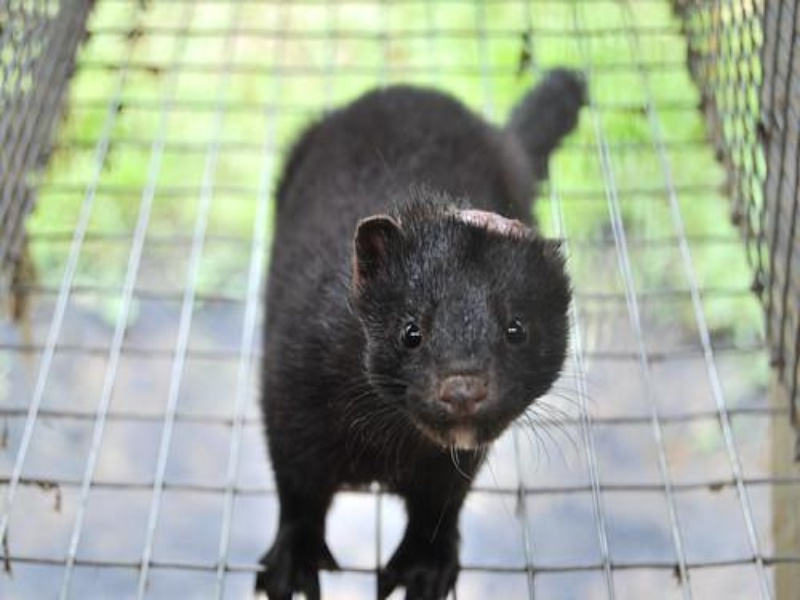minkish: (253, 54, 595, 597)
